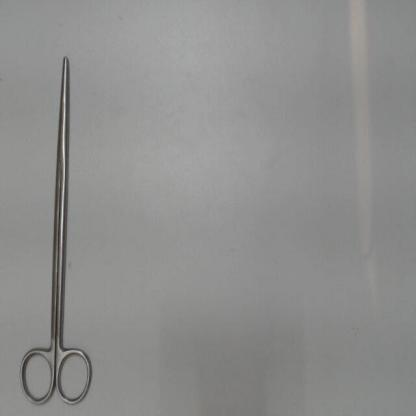9 Metzenbaum Scissors: (15, 52, 95, 409)
